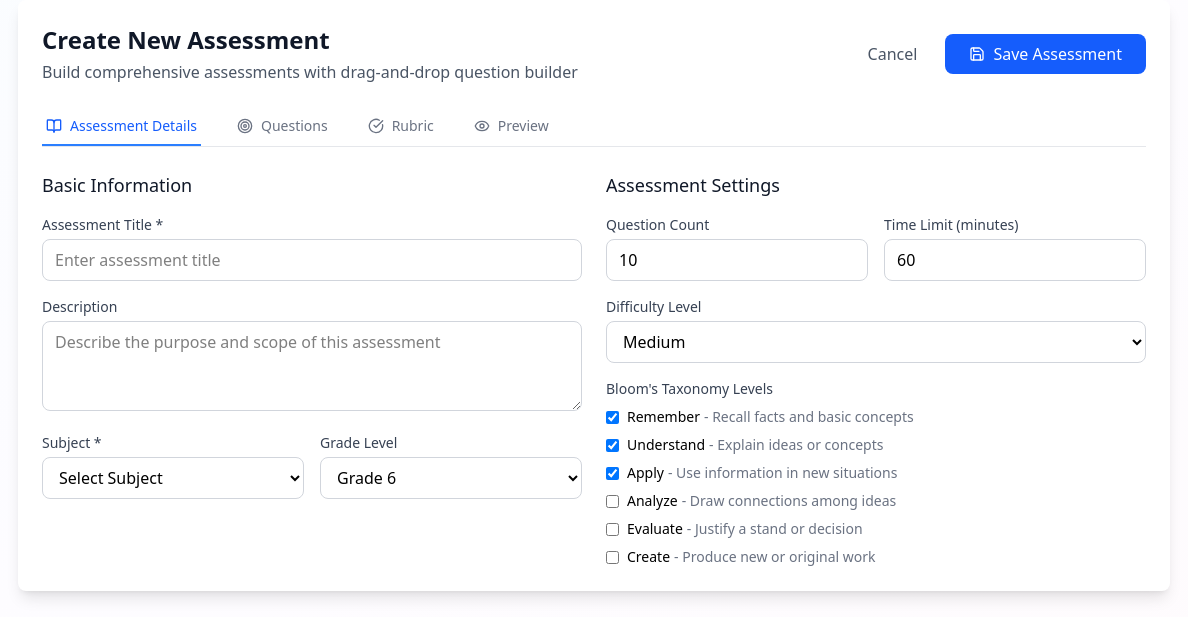
Test: AssessmentBuilder › Questions Tab › switches to questions tab
Click the button "Questions" at (282, 127), box [233, 108, 332, 146]
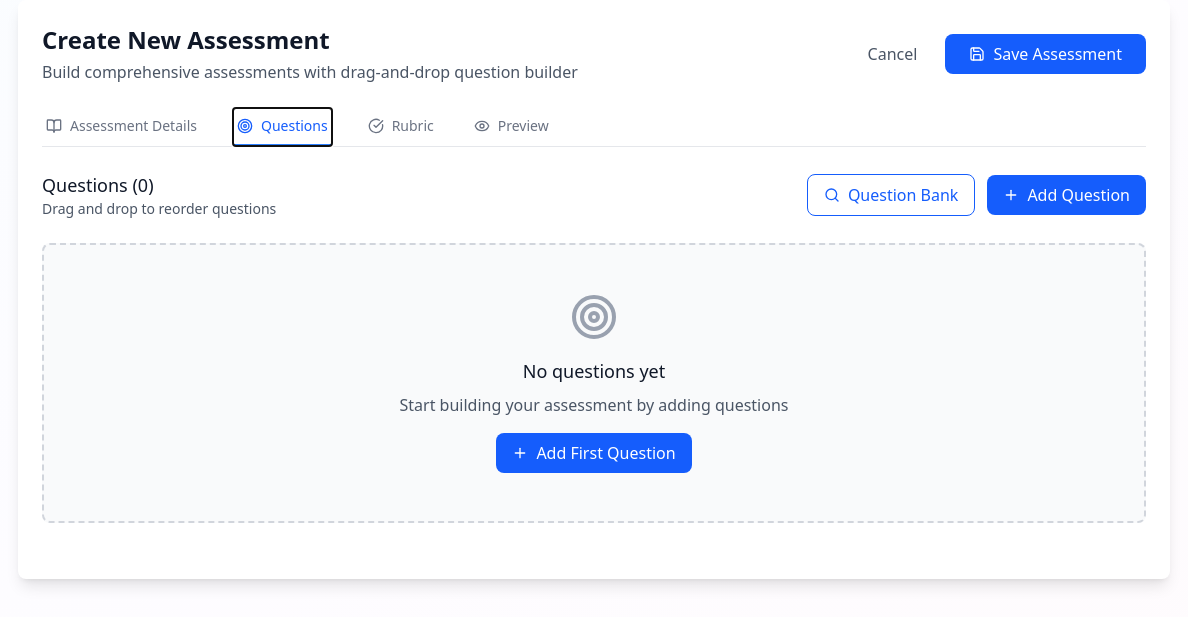
Expected: the heading "Questions (0)" is shown, [42, 173, 154, 197]
Expected: the heading "No questions yet" is shown, [523, 359, 665, 383]
